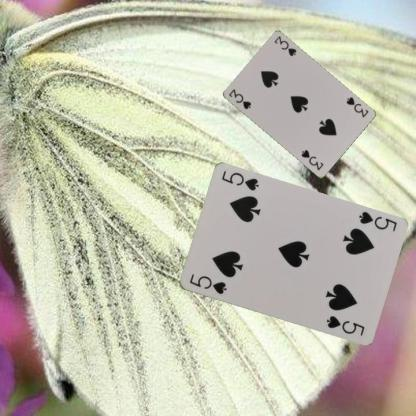3s: (343, 94, 370, 119), (226, 86, 252, 111)
5s: (355, 208, 398, 233), (186, 271, 228, 296)
